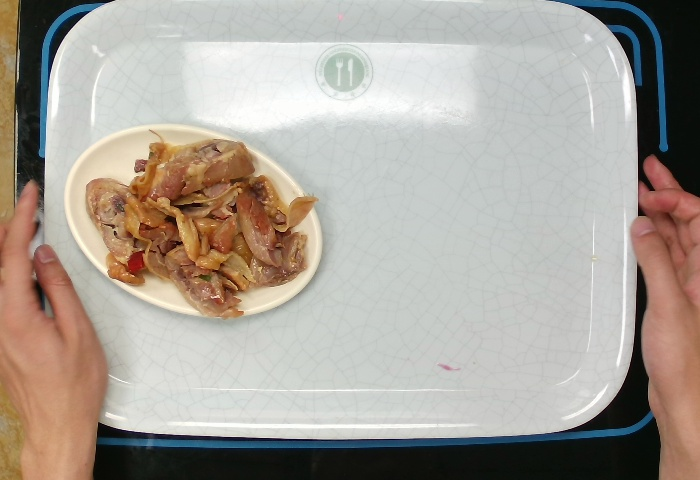JYsf-Tuo_Yuan_Wan: (63, 121, 324, 324)
